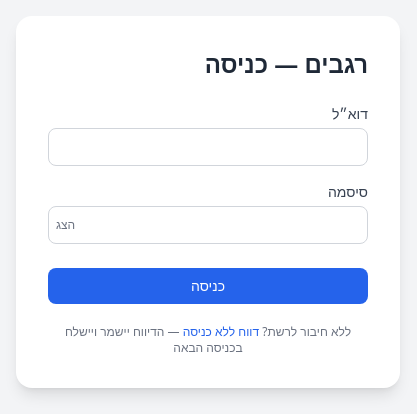
it: LoginPage › shows loading state while submitting
Type "a@b.com" into the field labelled "דוא״ל". click: (208, 147)
box: [48, 128, 368, 166]
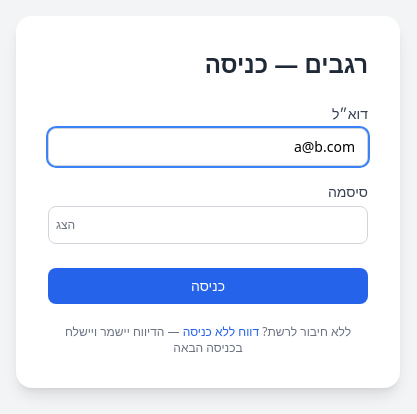
Type "Pass1!" into the password field labelled "סיסמה". click: (208, 225)
box: [48, 206, 368, 244]
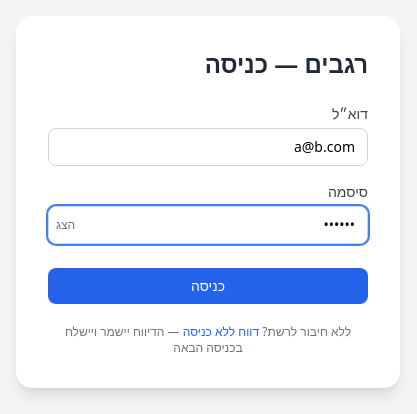
Click the button "כניסה". click: (208, 286)
box: [48, 268, 368, 304]
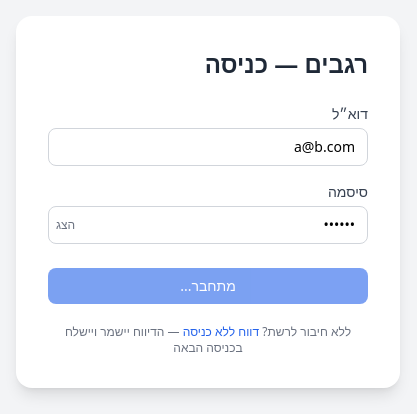
Now the button "מתחבר..." is disabled, box [48, 268, 368, 304]
